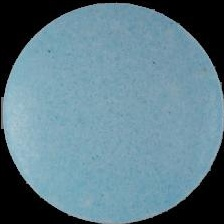53808-0899: (0, 0, 224, 224)
